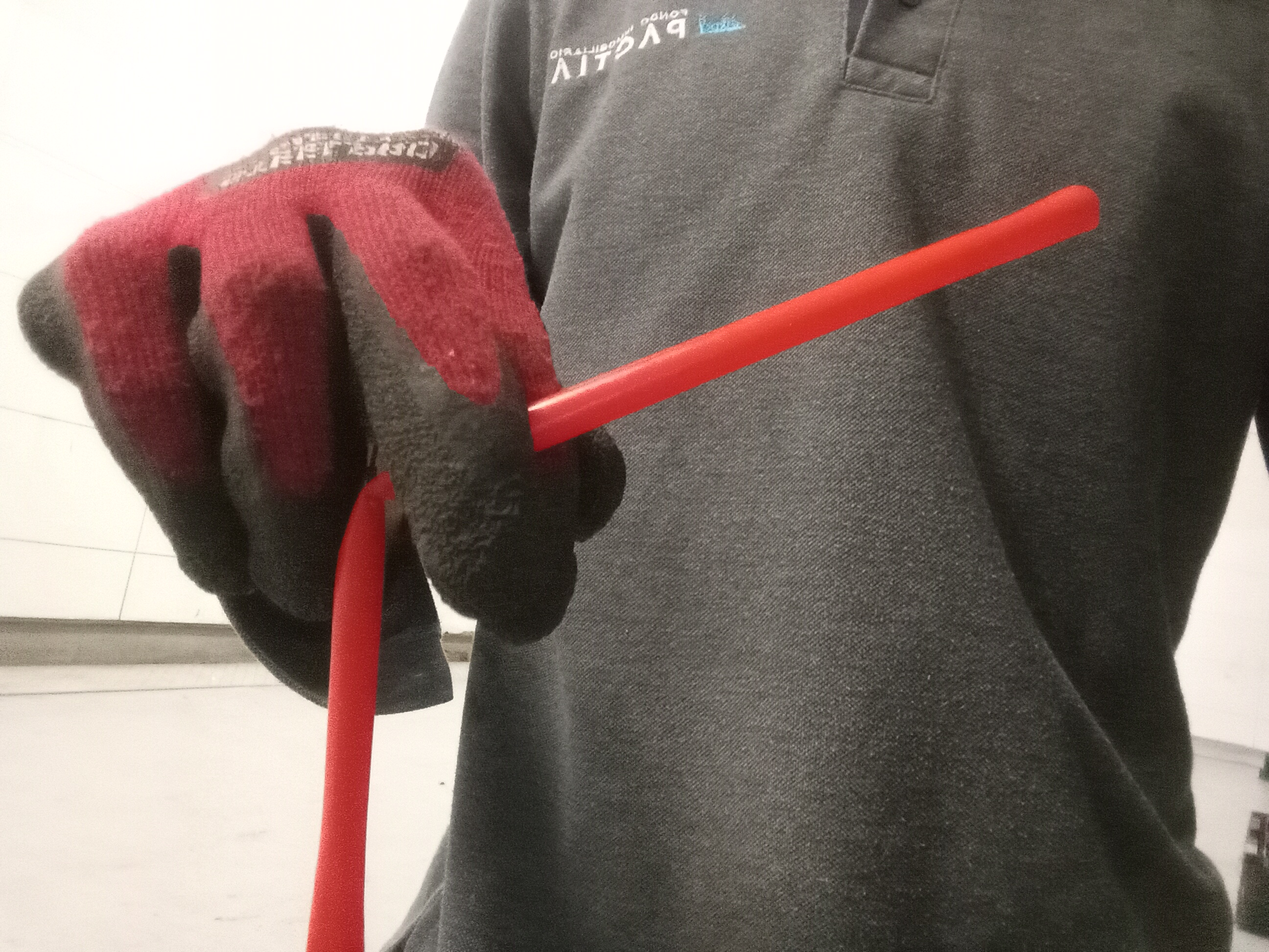Ordinario: (309, 186, 1100, 949)
